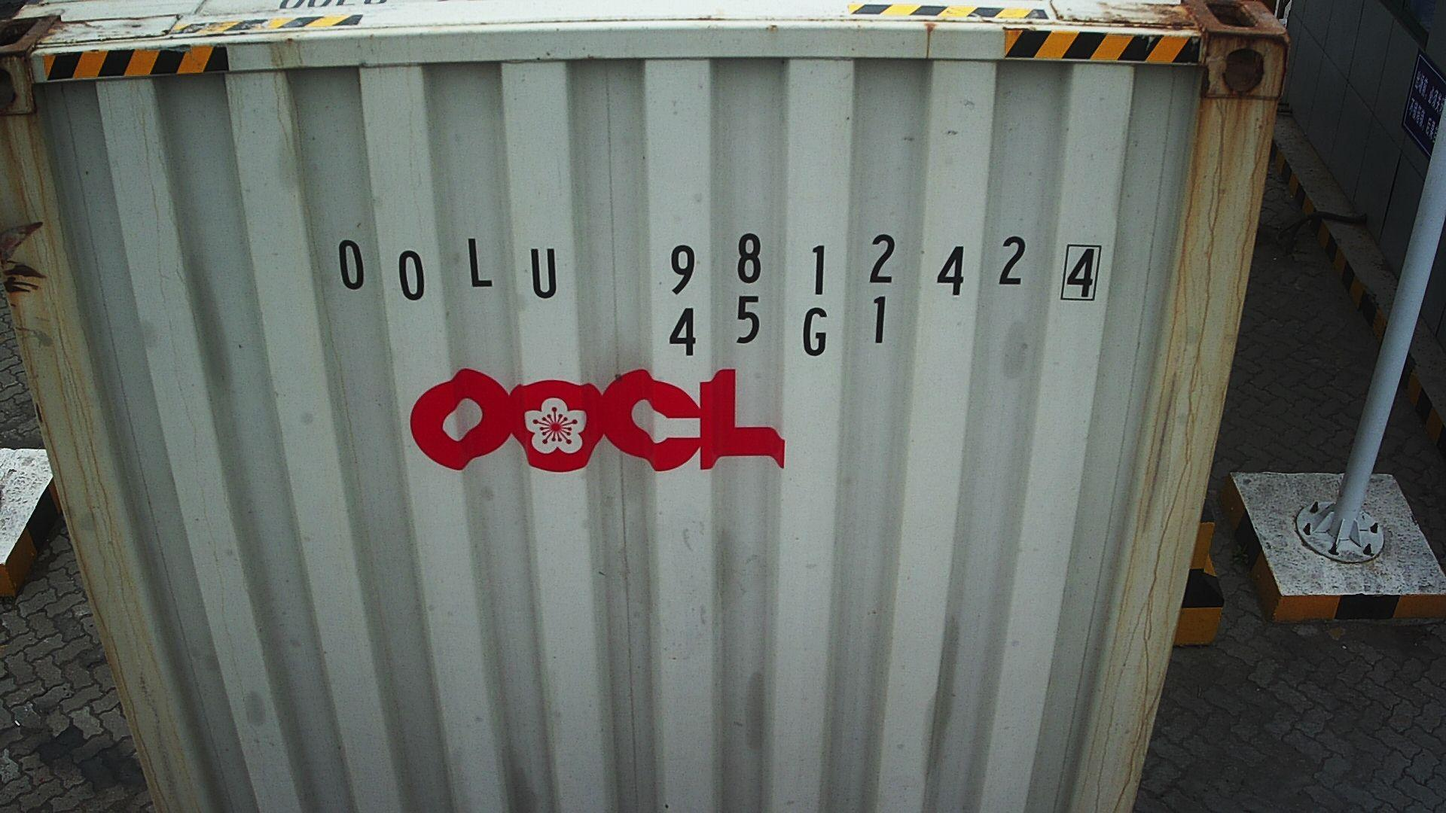container-numbers: (324, 227, 1109, 306), (663, 292, 892, 358)
